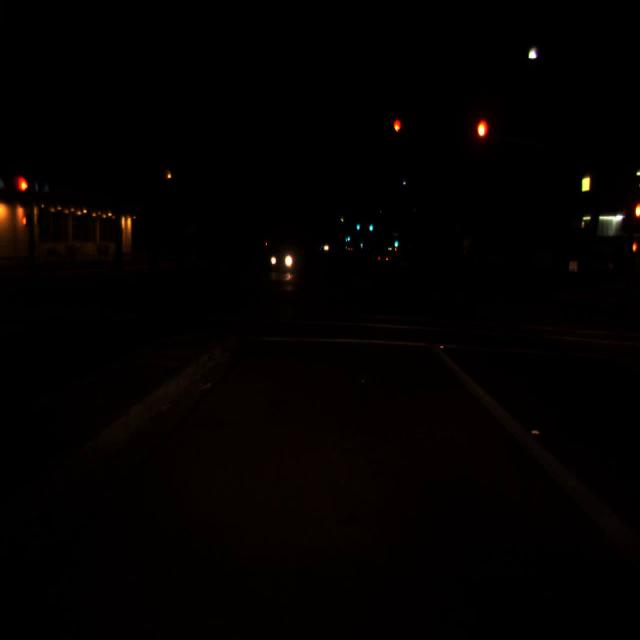stop: (477, 121, 487, 137)
stop left: (19, 178, 27, 190), (394, 121, 400, 131)
stop left traffic light: (17, 175, 29, 208), (392, 119, 402, 143)
stop traffic light: (475, 117, 489, 159)
